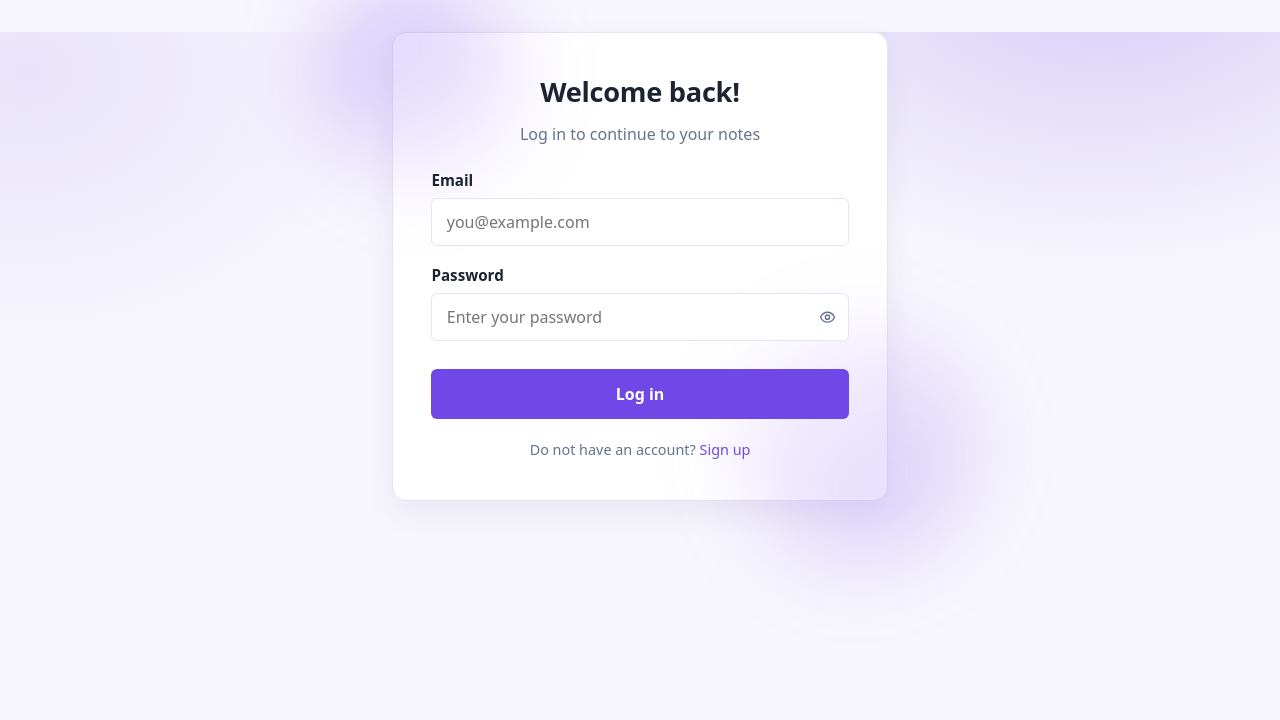
Test: LoginPage › hides an unexpected error behind a plain message
The image size is (1280, 720).
Type "aiman@example.com" into the field with placeholder "you@example.com" at {"x": 640, "y": 222}, box [431, 198, 849, 246]
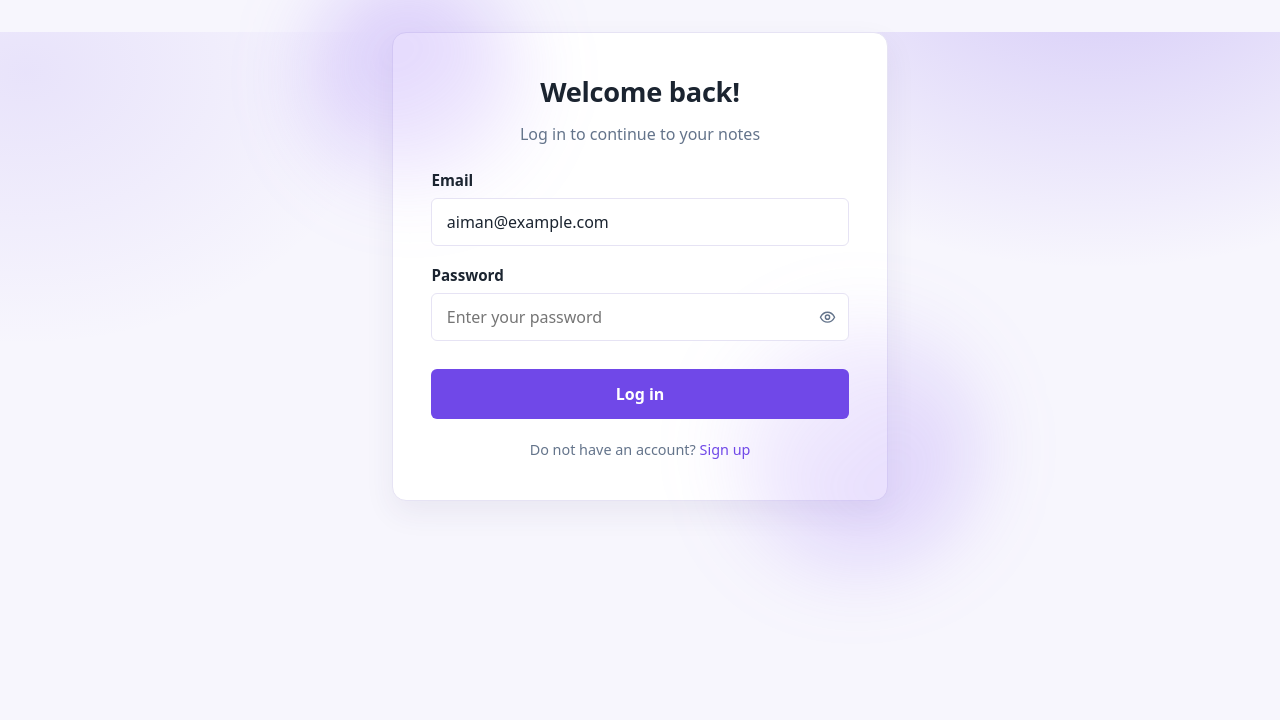
Type "GoodPass1" into the password field with placeholder "Enter your password" at {"x": 640, "y": 317}, box [431, 293, 849, 341]
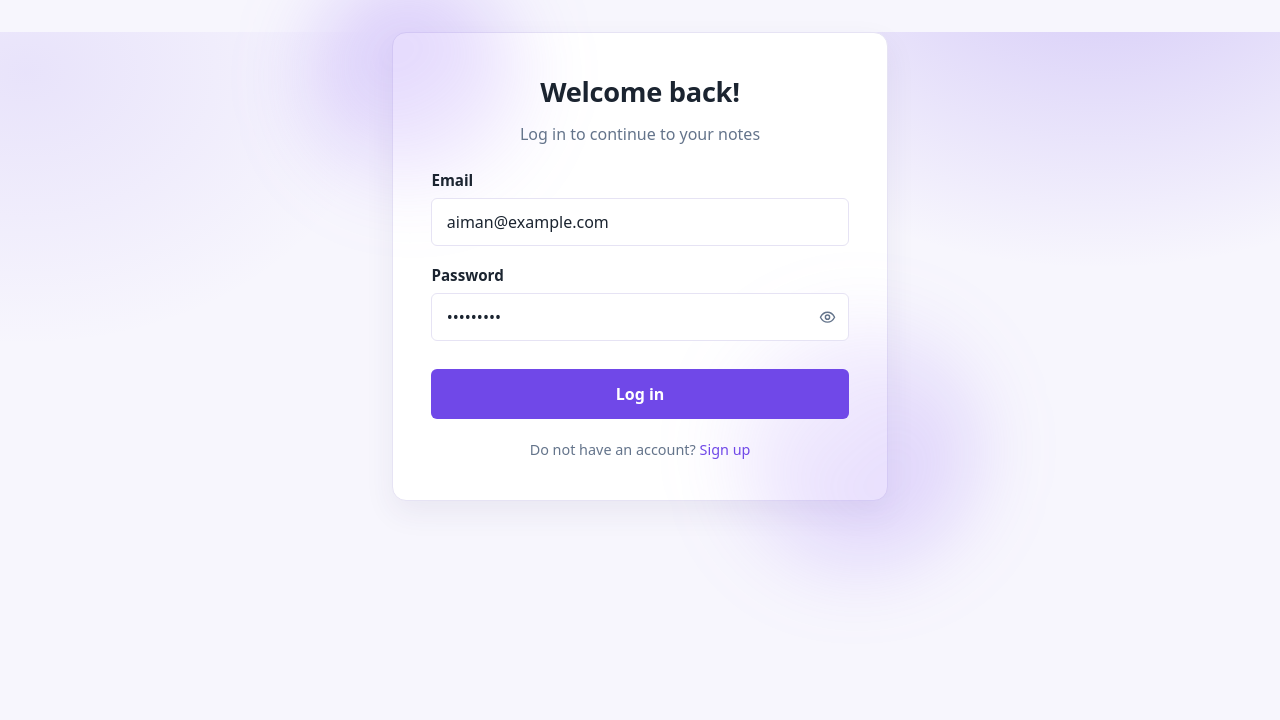
Click the button "Log in" at {"x": 640, "y": 394}, box [431, 369, 849, 419]
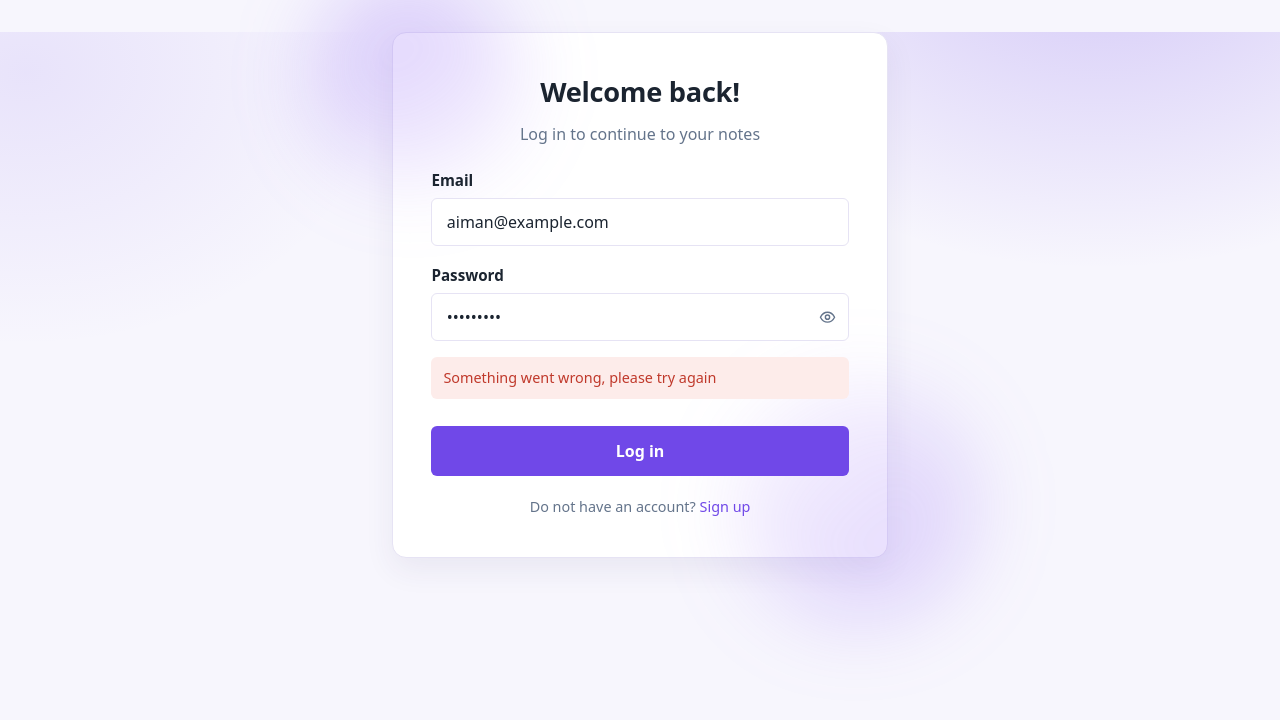
expect the text "Something went wrong, please try again" is shown: met, box [431, 357, 849, 399]
